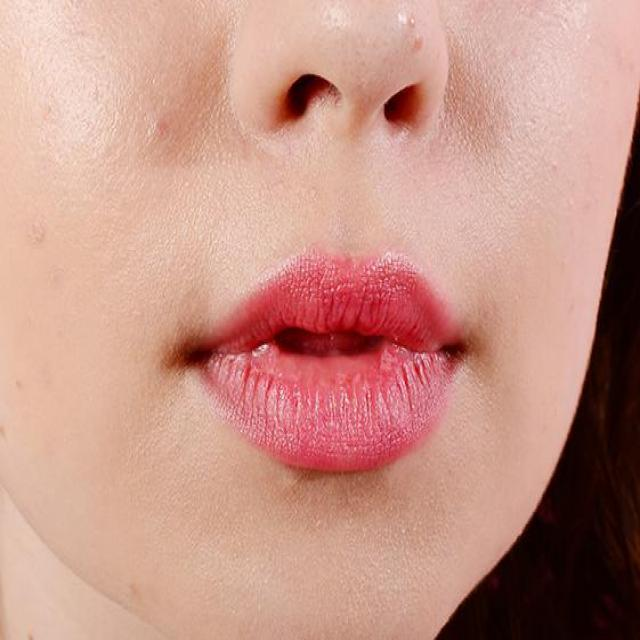blackheads: (143, 116, 170, 148), (402, 11, 422, 42)
